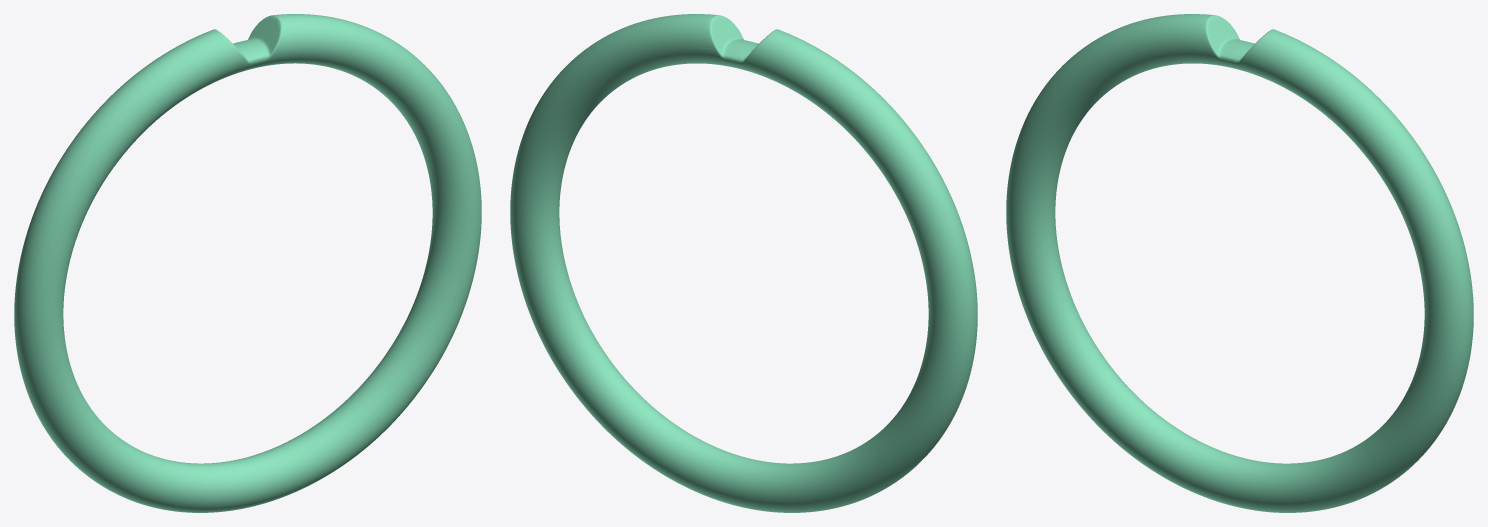
The picture shows the model from 3 angles, left to right: view 1: azimuth 30°, elevation 25°; view 2: azimuth 150°, elevation 25°; view 3: azimuth 330°, elevation 25°; orthographic projection.
Visible parts, largest first — view 1: Metal02; view 2: Metal02; view 3: Metal02.
Part boxes in pixels (bbox=[...]): Metal02: bbox=[14, 14, 481, 512]; Metal02: bbox=[510, 14, 977, 512]; Metal02: bbox=[1006, 14, 1473, 512].
Bounding box in the file's own units: 21.34 × 21.25 × 1.9.
